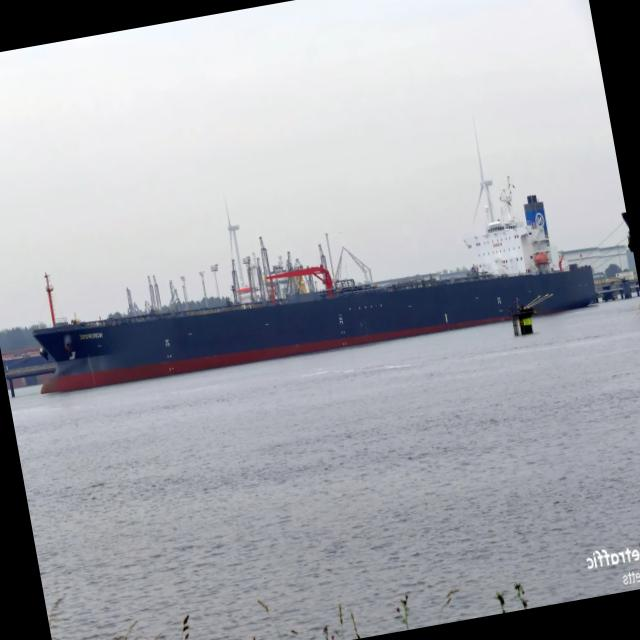Tanker: (33, 168, 595, 391)
